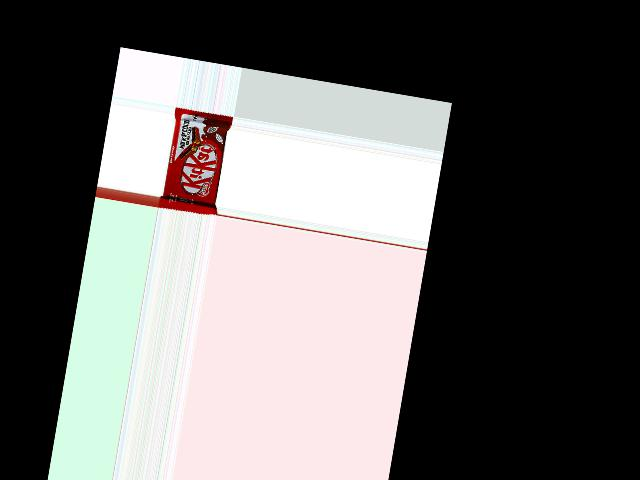chocolate: (158, 106, 233, 216)
